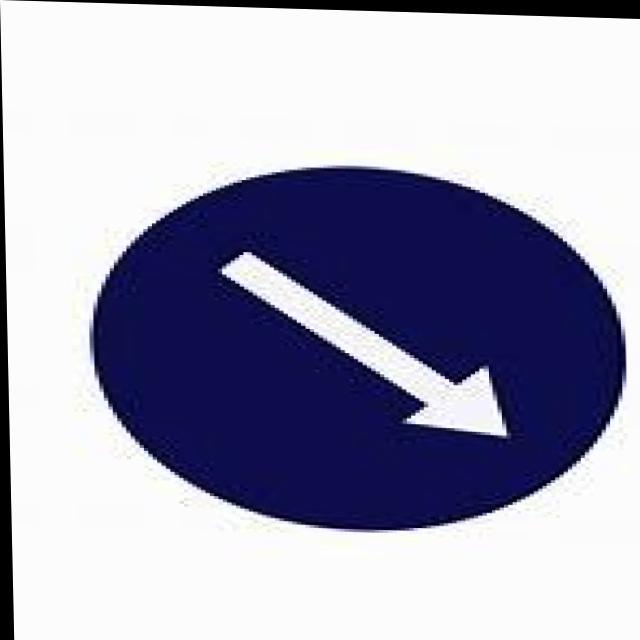COMPULSARY_KEEP_RIGHT: (85, 154, 629, 540)
